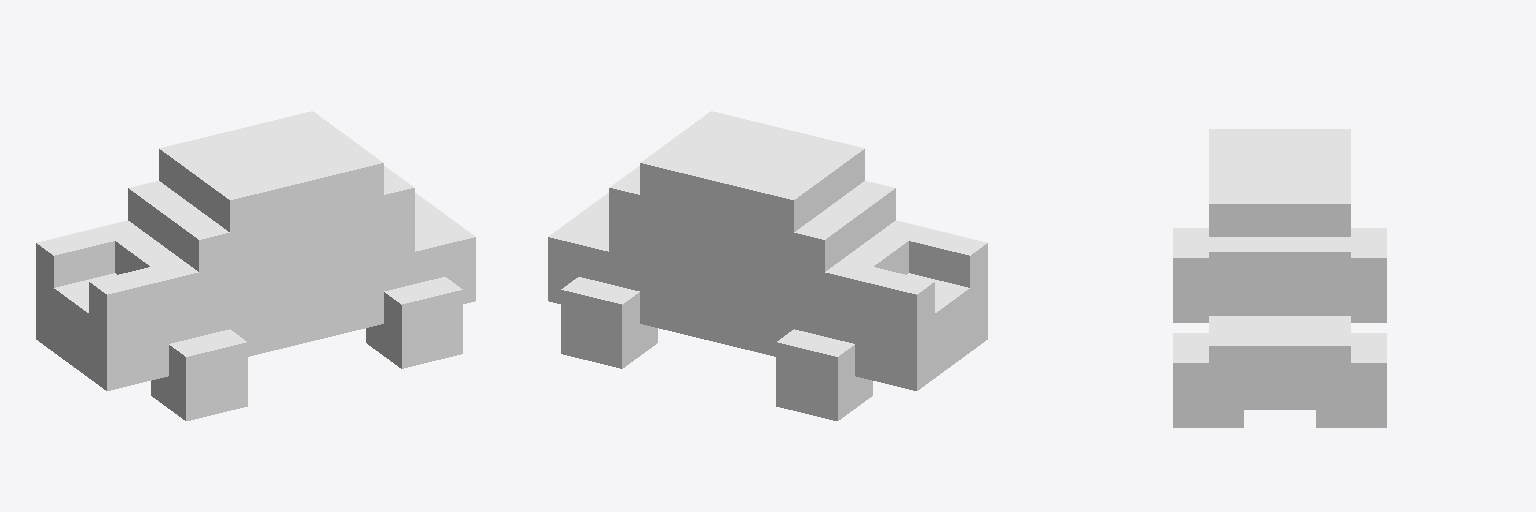
Rendered from toycar.obj.
3 views of the same model, side by side, from view 1: azimuth 30°, elevation 25°; view 2: azimuth 150°, elevation 25°; view 3: azimuth 270°, elevation 25° (orthographic).
Visible parts, largest first — view 1: object 1; view 2: object 1; view 3: object 1.
Part boxes in pixels (x1,y1,x2,y2): object 1: (36, 111, 475, 420); object 1: (548, 111, 987, 420); object 1: (1173, 129, 1386, 427).
Bounding box in the file's own units: 1.2 × 0.6 × 0.6.